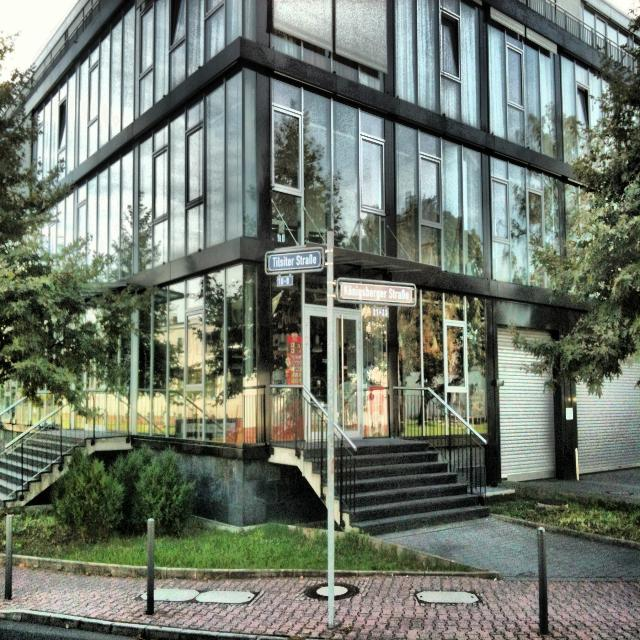escada: (297, 444, 491, 536), (0, 432, 82, 511)
